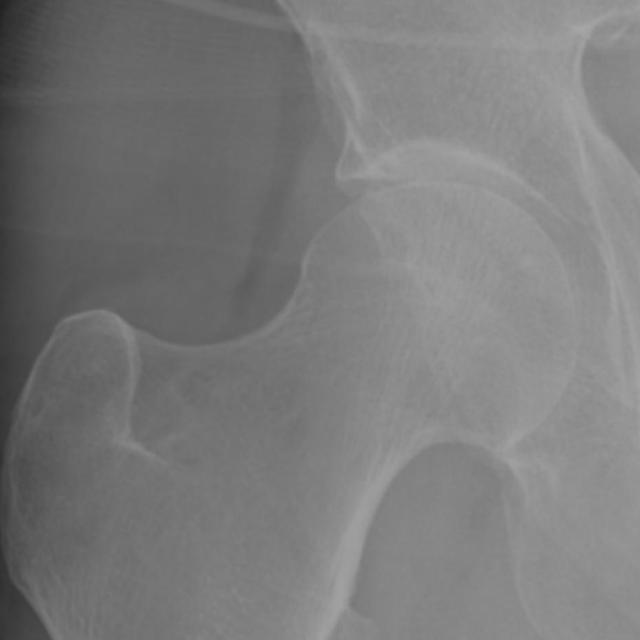Fitted_femural_head: (291, 180, 432, 291)
